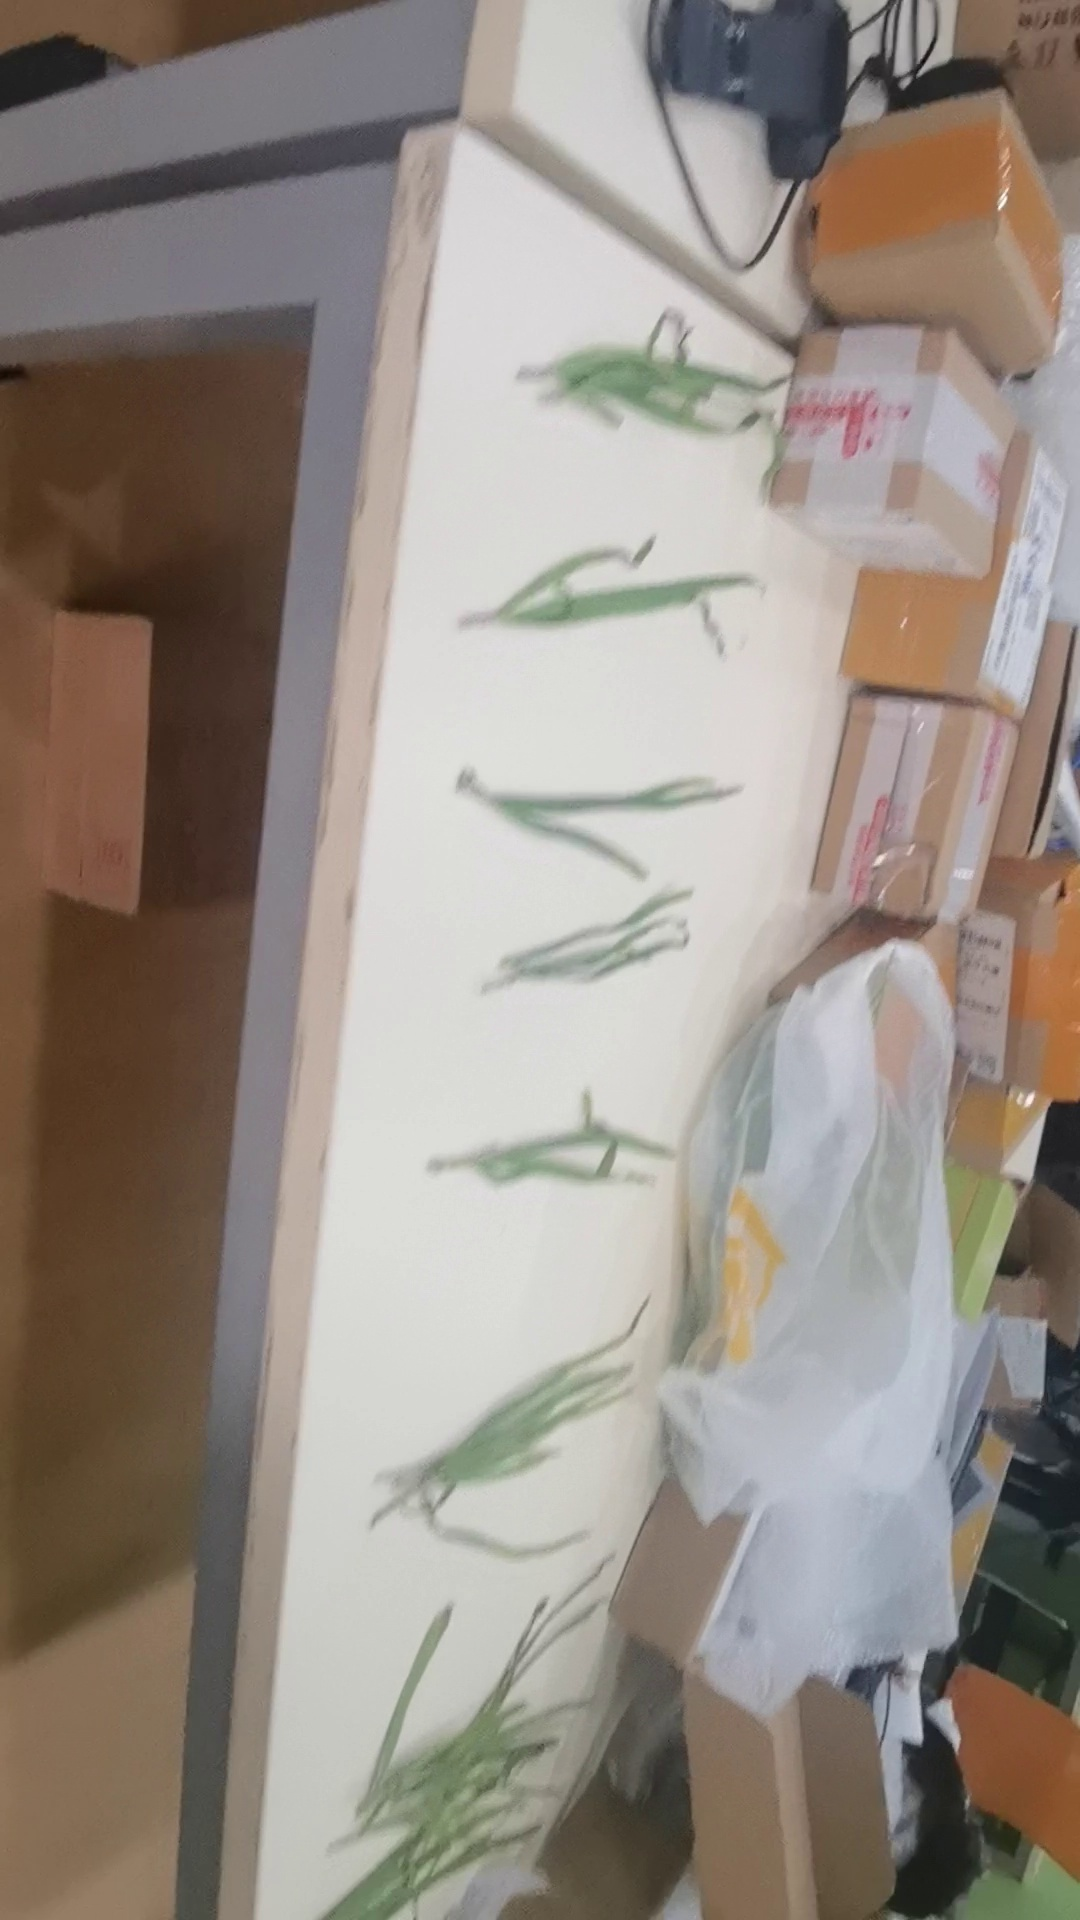chives: (276, 1625, 651, 1919), (371, 1329, 705, 1534), (434, 527, 789, 645), (425, 742, 806, 851), (429, 887, 756, 1004), (502, 320, 794, 435), (418, 1109, 728, 1215)
